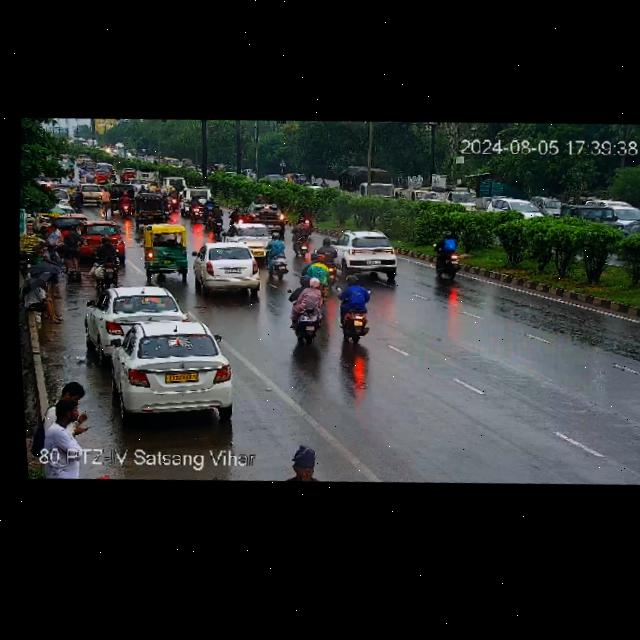car: (104, 312, 240, 423), (86, 280, 185, 350), (188, 236, 262, 298), (331, 227, 405, 278), (135, 222, 192, 277), (217, 220, 279, 254), (75, 218, 125, 251), (560, 199, 614, 229), (247, 197, 287, 233), (488, 197, 538, 223), (132, 190, 166, 226), (77, 183, 108, 206), (611, 201, 640, 225), (181, 185, 213, 198), (160, 174, 185, 190), (50, 187, 72, 205), (75, 154, 92, 169), (94, 167, 110, 182), (119, 167, 134, 181)
motorcycle: (332, 271, 380, 347), (283, 273, 331, 348), (427, 224, 464, 282), (261, 227, 292, 281), (89, 235, 121, 287), (314, 235, 343, 281), (290, 211, 313, 260), (185, 192, 213, 223), (206, 201, 226, 238), (303, 251, 329, 278), (110, 186, 131, 215), (117, 191, 136, 217), (297, 201, 314, 229), (164, 187, 180, 213), (229, 202, 246, 226), (136, 179, 160, 193)
person: (43, 399, 93, 452), (278, 436, 325, 484), (38, 240, 68, 294), (25, 283, 58, 325), (49, 373, 88, 408), (59, 222, 82, 275), (47, 223, 59, 244)
truck: (135, 165, 160, 183)
